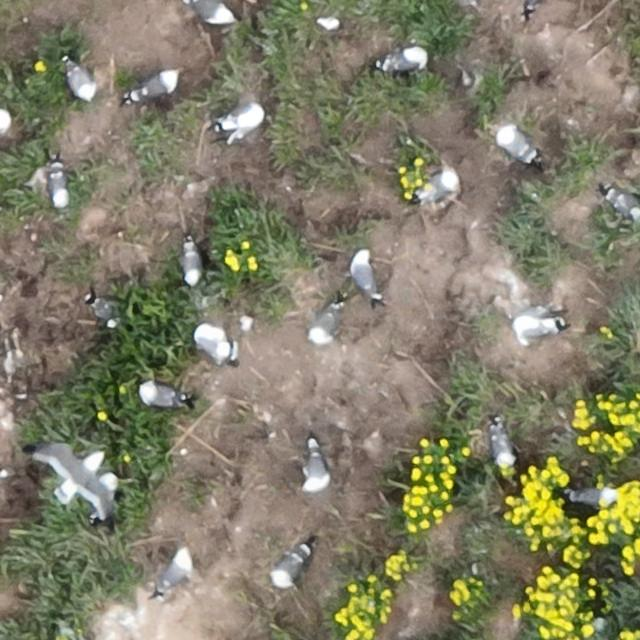F: (53, 448, 120, 518)
umineko: (156, 547, 192, 601), (273, 549, 306, 586), (196, 328, 230, 362), (187, 1, 233, 24), (353, 254, 378, 296), (224, 104, 264, 130), (303, 448, 327, 489), (310, 304, 338, 339), (68, 65, 95, 100), (500, 130, 532, 159), (137, 73, 175, 97), (141, 384, 180, 407), (517, 315, 558, 336), (491, 429, 513, 466), (423, 172, 454, 197), (389, 48, 424, 70), (569, 489, 611, 507), (610, 191, 639, 217), (182, 245, 201, 284), (90, 297, 114, 326), (50, 171, 68, 207), (0, 108, 8, 132), (525, 0, 541, 11)
